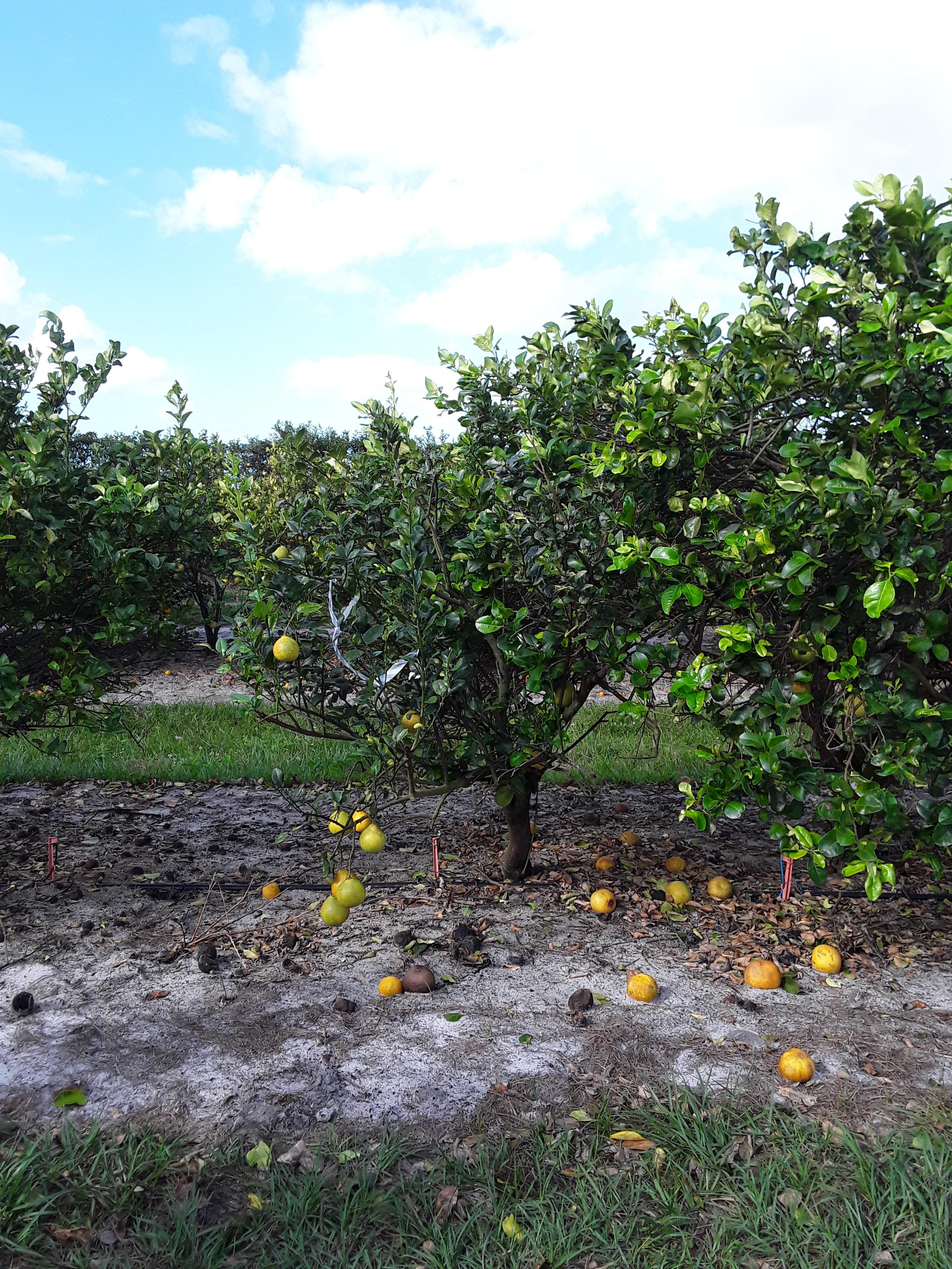fruit_on_ground: (779, 671, 816, 703), (327, 866, 363, 898), (790, 629, 821, 665), (318, 896, 354, 926), (270, 634, 300, 668), (335, 877, 367, 908), (547, 679, 578, 710), (516, 747, 552, 773), (358, 822, 388, 853), (844, 692, 875, 718), (396, 708, 428, 733), (327, 809, 354, 836), (353, 804, 375, 834), (268, 547, 290, 563), (163, 603, 174, 616), (185, 598, 196, 610)
fruit_on_tree: (777, 1046, 817, 1084), (744, 957, 783, 994), (809, 942, 844, 976), (625, 973, 660, 1004), (404, 965, 434, 997), (589, 887, 618, 916), (706, 875, 733, 905), (568, 989, 593, 1021), (663, 879, 690, 908), (199, 945, 224, 975), (377, 976, 402, 1004), (453, 923, 482, 942), (665, 855, 690, 877), (593, 854, 617, 874), (392, 929, 418, 947), (459, 937, 485, 954), (620, 830, 644, 848), (335, 998, 359, 1015), (261, 881, 279, 902), (677, 773, 695, 790), (582, 811, 600, 826), (650, 889, 668, 904), (616, 802, 634, 814), (530, 820, 542, 837), (206, 844, 224, 855), (172, 839, 187, 851), (133, 865, 147, 877), (278, 843, 293, 853), (226, 832, 239, 843), (215, 848, 227, 857), (164, 668, 173, 676)
